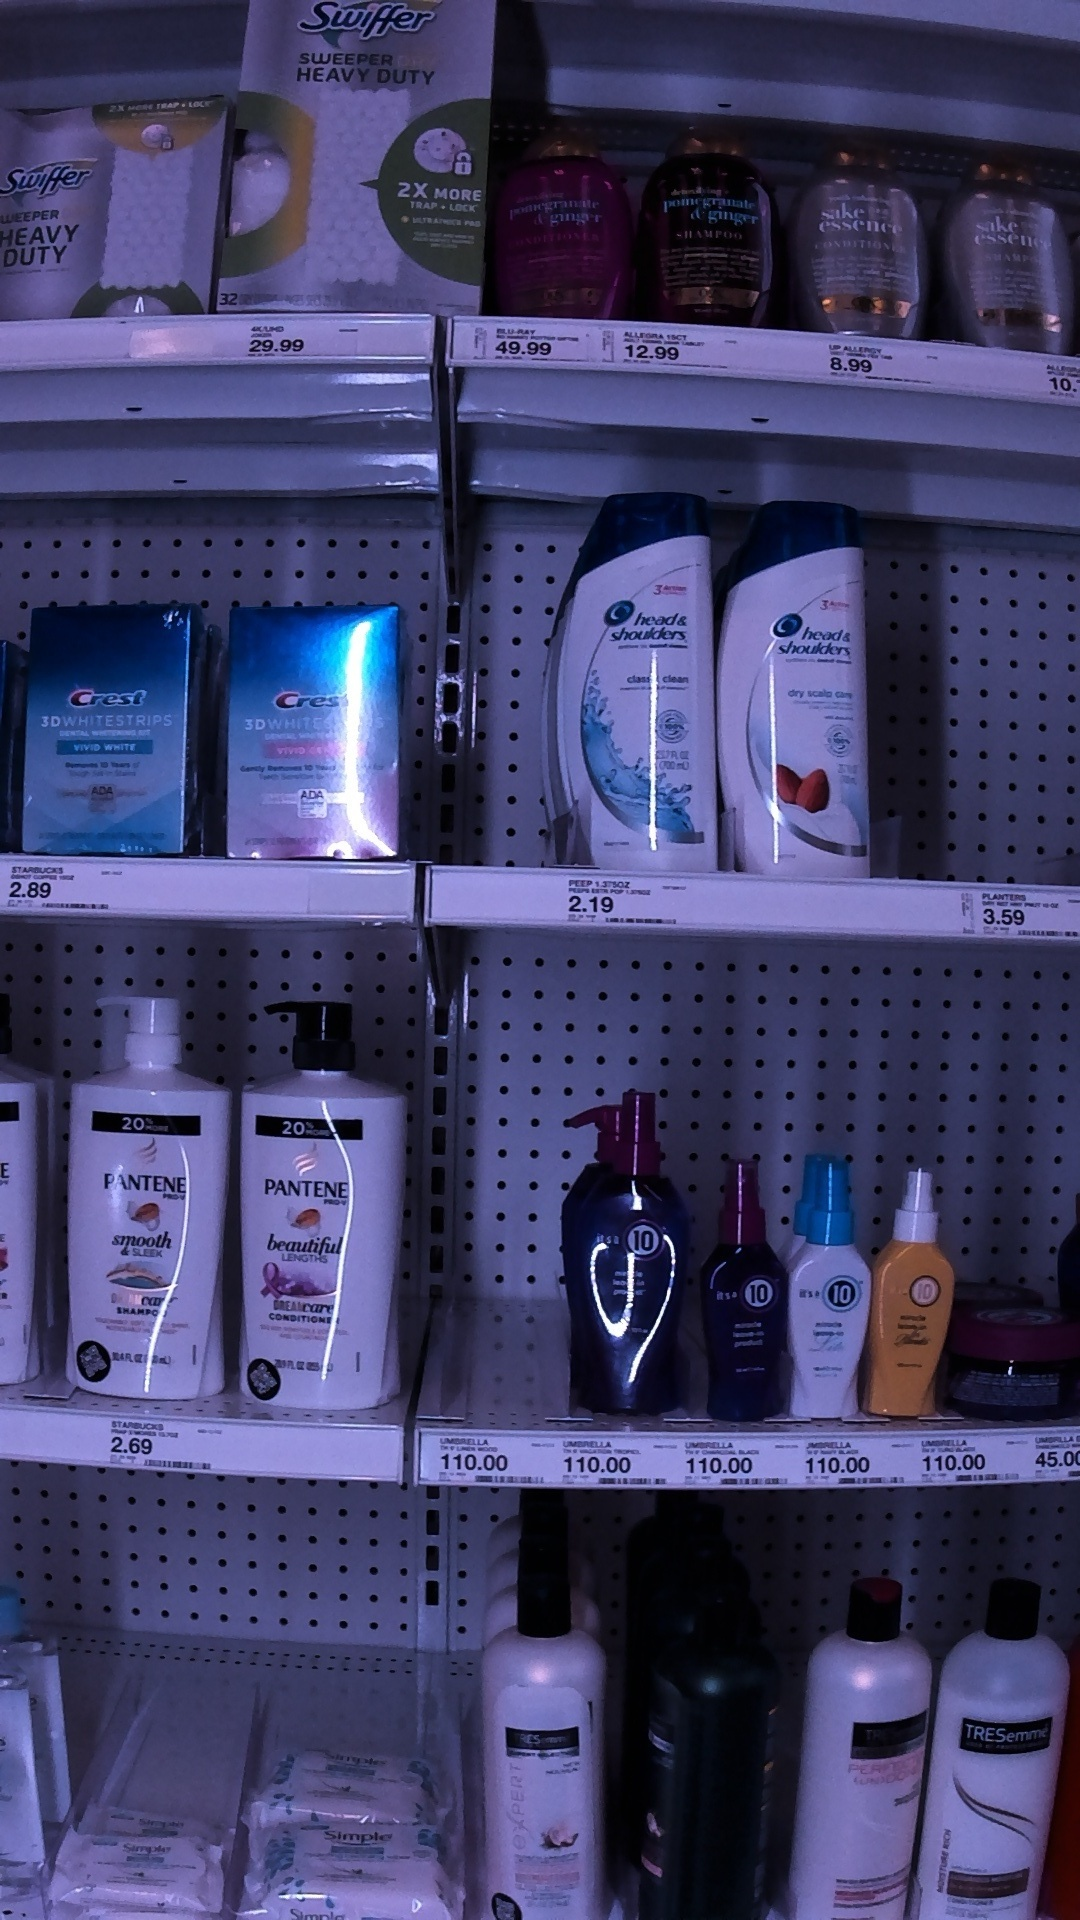ptag: (560, 866, 702, 934), (955, 877, 1077, 949), (105, 1415, 235, 1484), (418, 1425, 545, 1495), (7, 853, 124, 916), (560, 1431, 675, 1495), (469, 320, 595, 373), (235, 315, 363, 364), (806, 1431, 902, 1491), (820, 335, 931, 386), (620, 320, 733, 371), (684, 1443, 786, 1495), (920, 1431, 1015, 1486)
